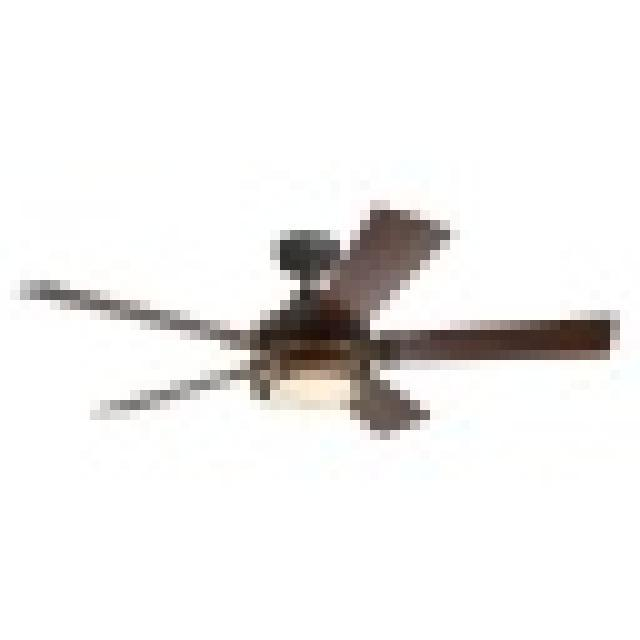fan_off: (32, 215, 618, 435)
